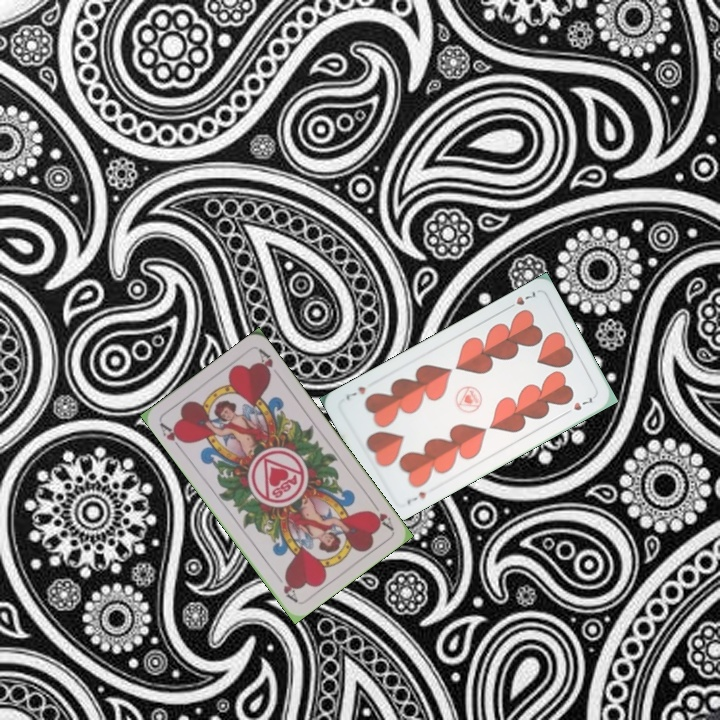H7: (502, 287, 538, 313), (403, 487, 429, 507)
HA: (155, 418, 188, 453), (366, 497, 396, 533)
